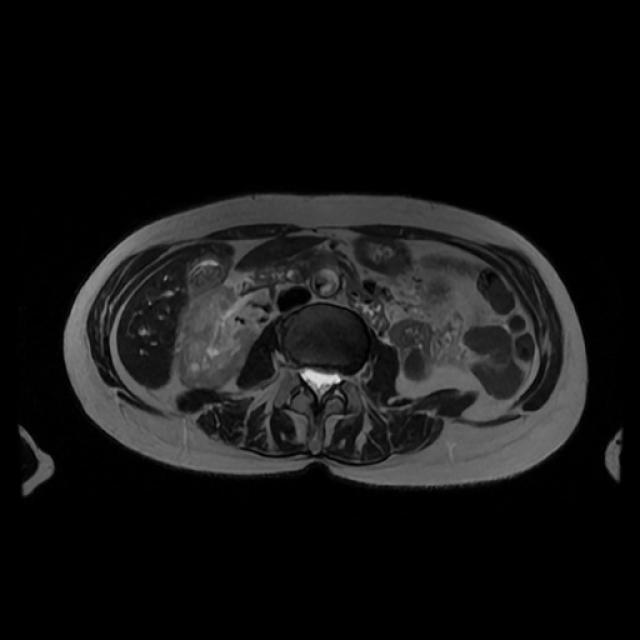sag: (177, 285, 261, 392)
